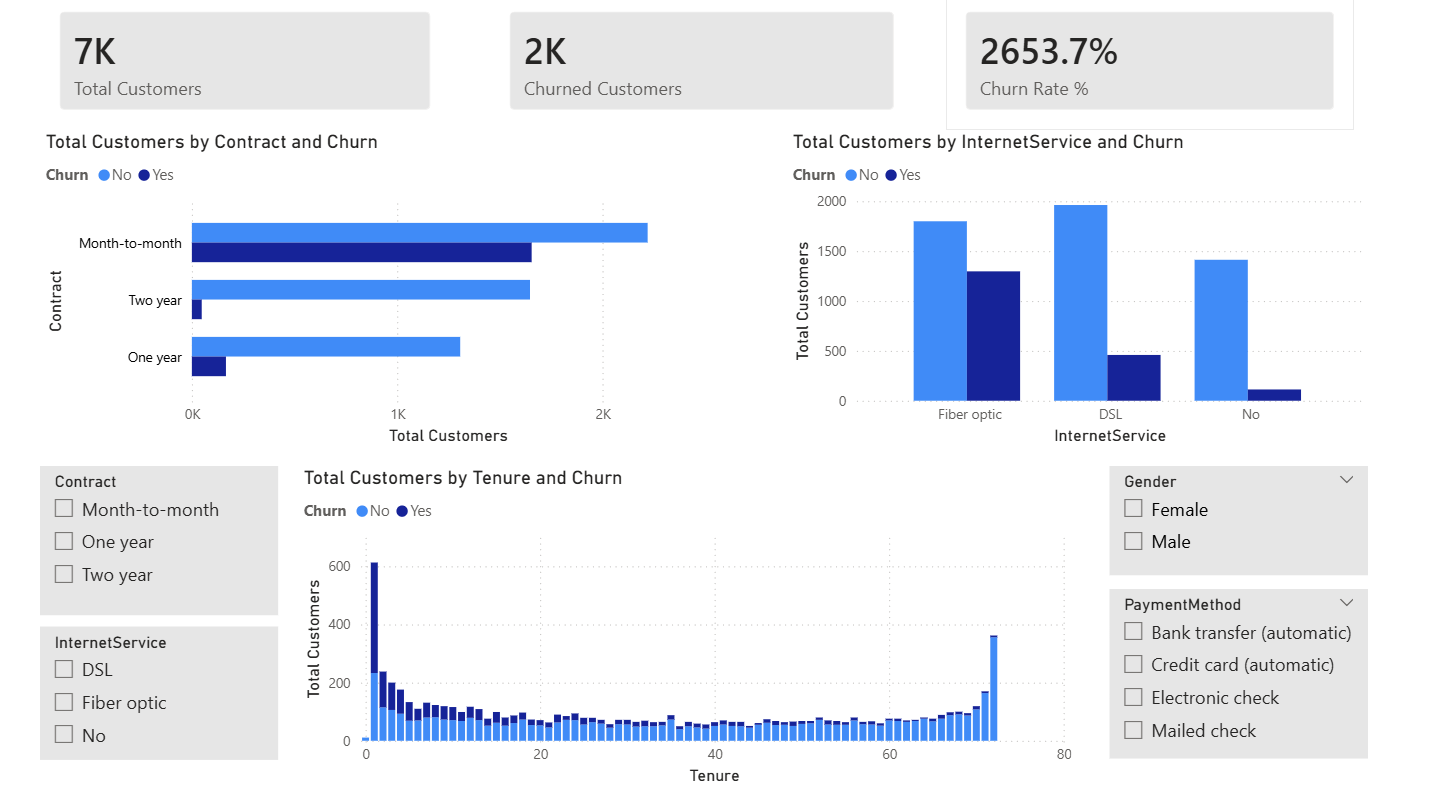

What the dashboard file says about the page in this screenshot:
{"tool":"powerbi","page":{"name":"Page 1","canvas":[1280,720],"ordinal":0},"visuals":[{"type":"cardVisual","fields":{"Data":["Telco-Customer-Churn.Total Customers"]},"box":[39.3,0,362.5,121.4],"z":0},{"type":"cardVisual","fields":{"Data":["Telco-Customer-Churn.Churned Customers"]},"box":[437.5,0,375,121.4],"z":1000},{"type":"cardVisual","fields":{"Data":["Telco-Customer-Churn.Churn Rate %"]},"box":[841.1,0,360.7,121.4],"z":2000},{"type":"clusteredBarChart","fields":{"Y":["Telco-Customer-Churn.Total Customers"],"Category":["Telco-Customer-Churn.Contract"],"Series":["Telco-Customer-Churn.Churn"]},"box":[39.3,121.4,600,282.1],"z":2001},{"type":"clusteredColumnChart","fields":{"Category":["Telco-Customer-Churn.InternetService"],"Series":["Telco-Customer-Churn.Churn"],"Y":["Telco-Customer-Churn.Total Customers"]},"box":[700,121.4,514.3,282.1],"z":2002},{"type":"slicer","fields":{"Values":["Telco-Customer-Churn.Contract"]},"box":[39.3,419.6,210.7,132.1],"z":2003},{"type":"slicer","fields":{"Values":["Telco-Customer-Churn.gender"]},"box":[985.7,419.6,228.6,96.4],"z":2004},{"type":"slicer","fields":{"Values":["Telco-Customer-Churn.InternetService"]},"box":[39.3,560.7,210.7,117.9],"z":2005},{"type":"slicer","fields":{"Values":["Telco-Customer-Churn.PaymentMethod"]},"box":[985.7,528.6,228.6,150],"z":2006},{"type":"columnChart","fields":{"Y":["Telco-Customer-Churn.Total Customers"],"Category":["Telco-Customer-Churn.tenure"],"Series":["Telco-Customer-Churn.Churn"]},"box":[267.9,419.6,689.3,285.7],"z":2007}]}

Visuals, with their boxes in screenshot pixels (x1, y1, x2, y2), scaled from the page's 1280x720 canvas onto the 1431x801 screenshot:
cardVisual - Telco-Customer-Churn.Total Customers: BBox(44, 0, 449, 135)
cardVisual - Telco-Customer-Churn.Churned Customers: BBox(489, 0, 908, 135)
cardVisual - Telco-Customer-Churn.Churn Rate %: BBox(940, 0, 1344, 135)
clusteredBarChart - Telco-Customer-Churn.Total Customers x Telco-Customer-Churn.Contract: BBox(44, 135, 715, 449)
clusteredColumnChart - Telco-Customer-Churn.InternetService x Telco-Customer-Churn.Churn: BBox(783, 135, 1358, 449)
slicer - Telco-Customer-Churn.Contract: BBox(44, 467, 279, 614)
slicer - Telco-Customer-Churn.gender: BBox(1102, 467, 1358, 574)
slicer - Telco-Customer-Churn.InternetService: BBox(44, 624, 279, 755)
slicer - Telco-Customer-Churn.PaymentMethod: BBox(1102, 588, 1358, 755)
columnChart - Telco-Customer-Churn.Total Customers x Telco-Customer-Churn.tenure: BBox(300, 467, 1070, 785)
